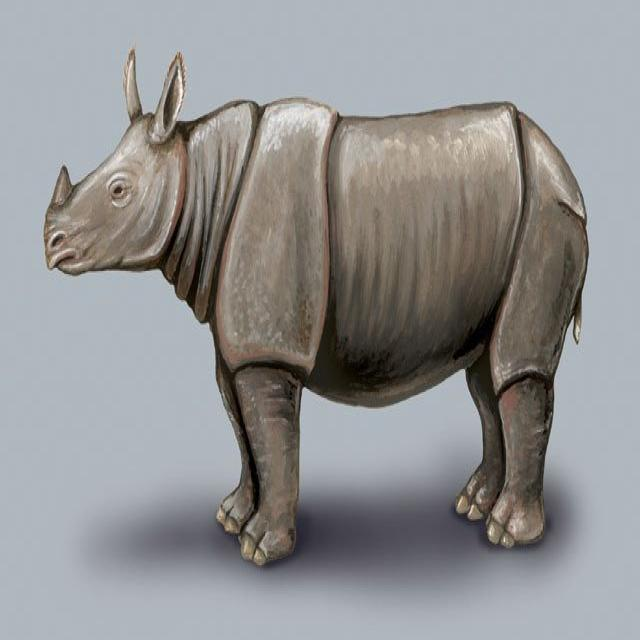Rinoceros: (36, 46, 588, 560)
